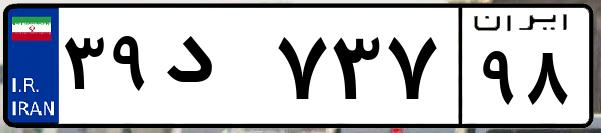3: (330, 28, 385, 110), (57, 26, 110, 100)
7: (270, 28, 330, 110), (385, 28, 445, 110)
8: (525, 38, 570, 115)
9: (475, 38, 525, 113), (110, 28, 158, 98)
د: (158, 20, 270, 120)
